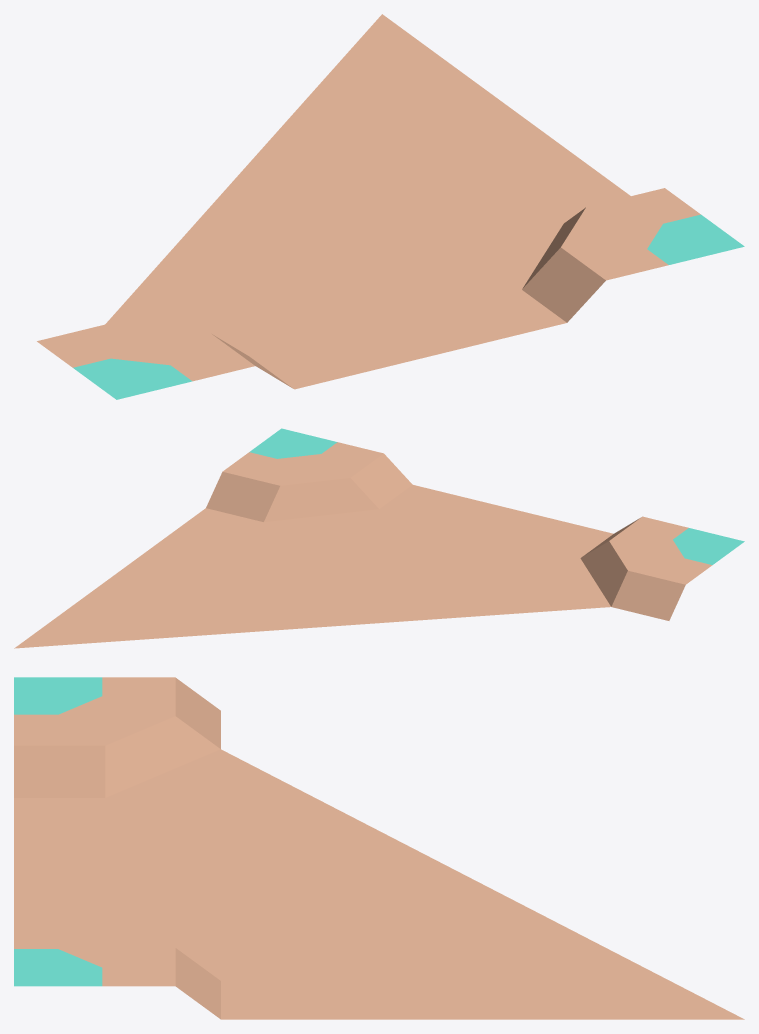
File: ground_pathSideOpen.glb
The picture shows the model from 3 angles, top to bottom: view 1: azimuth 30°, elevation 25°; view 2: azimuth 150°, elevation 25°; view 3: azimuth 270°, elevation 25°; orthographic projection. The views are drawn at different scales.
Parts seen in each view (by area): view 1: ground_pathSideOpen; view 2: ground_pathSideOpen; view 3: ground_pathSideOpen.
Boxes of the visible parts, bbox=[...] form: ground_pathSideOpen: bbox=[37, 14, 744, 399]; ground_pathSideOpen: bbox=[14, 428, 744, 648]; ground_pathSideOpen: bbox=[14, 677, 744, 1019].
Bounding box in the file's own units: 1 × 0.0501 × 1.
